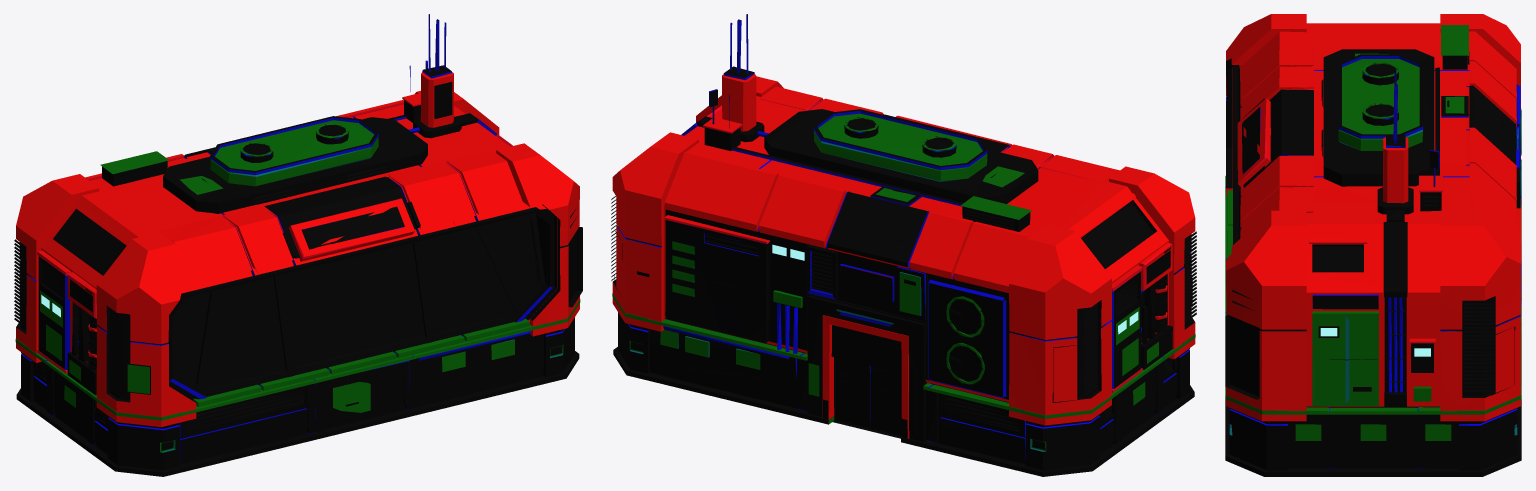
Rendered from SM_CommandCenter_LOD2.fbx.
The picture shows the model from 3 angles, left to right: view 1: azimuth 30°, elevation 25°; view 2: azimuth 150°, elevation 25°; view 3: azimuth 270°, elevation 25°; orthographic projection. The views are drawn at different scales.
Parts seen in each view (by area): view 1: SM_CommandCenter_LOD2; view 2: SM_CommandCenter_LOD2; view 3: SM_CommandCenter_LOD2.
Boxes of the visible parts, bbox=[...] form: SM_CommandCenter_LOD2: bbox=[14, 14, 582, 476]; SM_CommandCenter_LOD2: bbox=[611, 14, 1196, 476]; SM_CommandCenter_LOD2: bbox=[1225, 14, 1521, 476].
Bounding box in the file's own units: 16 × 10.62 × 8.
